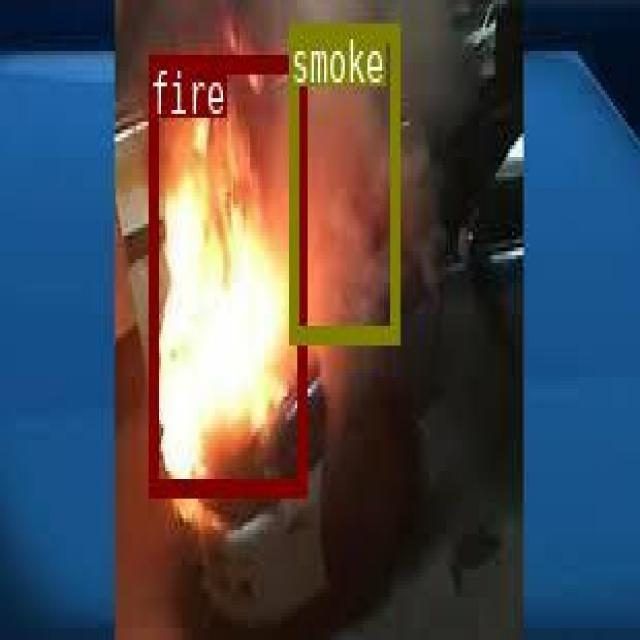fire: (148, 53, 304, 491)
smoke: (288, 23, 397, 339)
